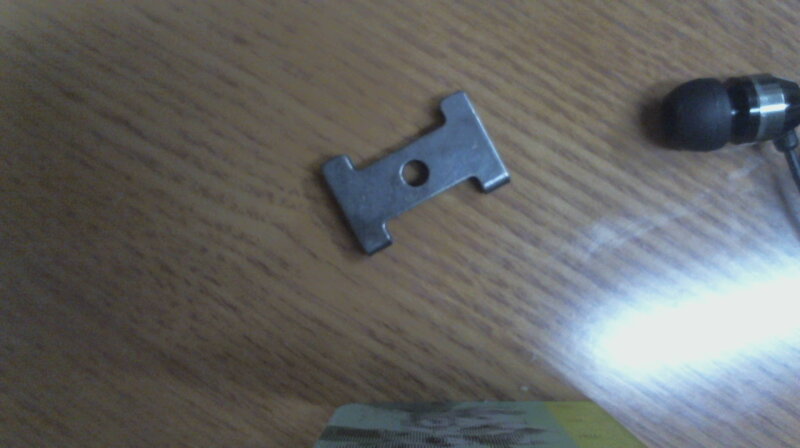O002: (319, 91, 511, 256)
